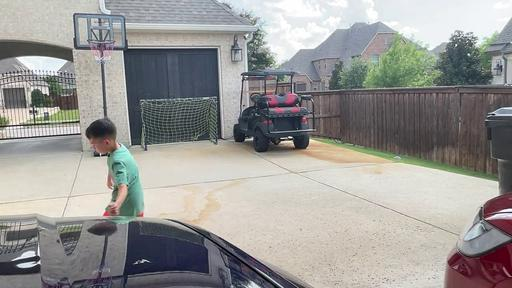human: (86, 118, 144, 218)
rim: (87, 39, 116, 64)
